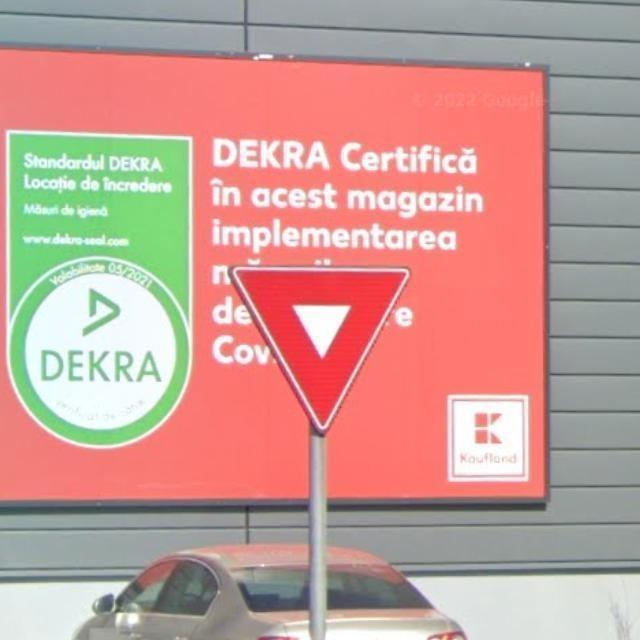prio_give_way: (230, 265, 405, 439)
